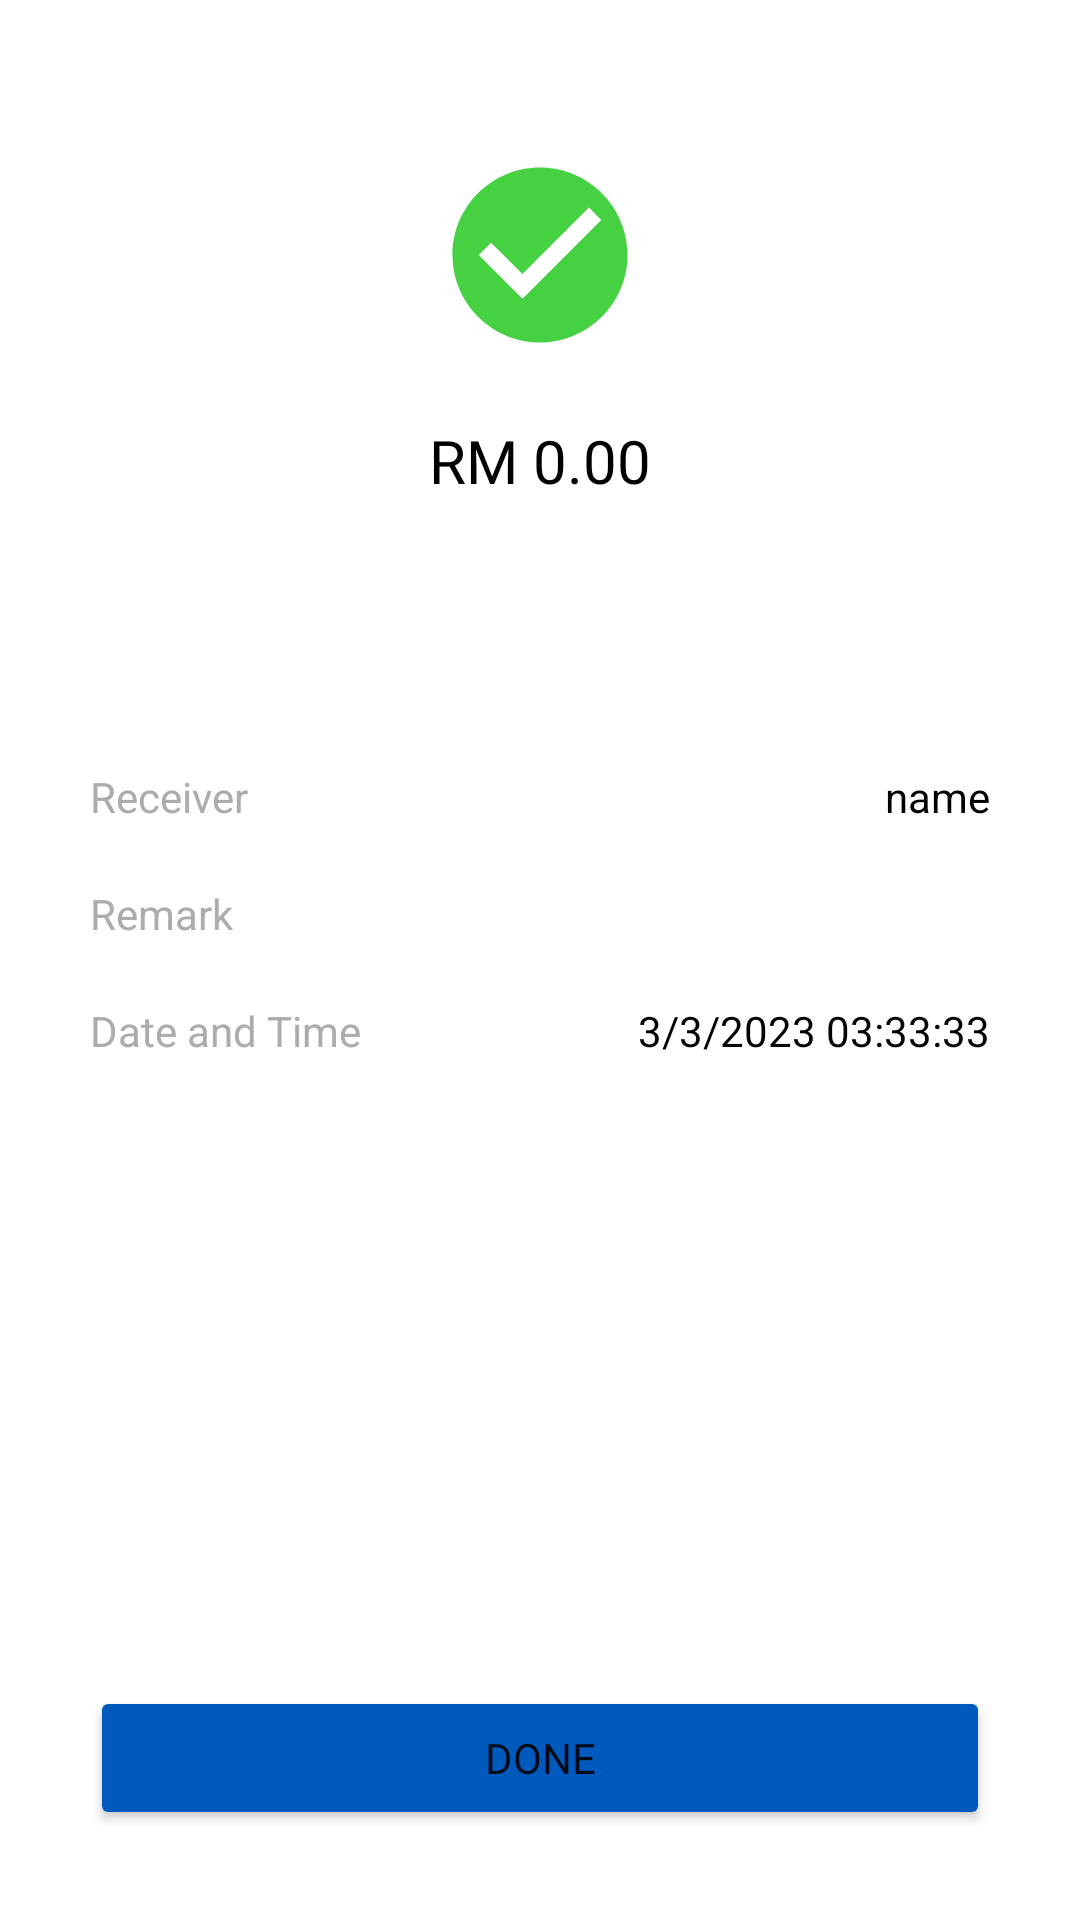

Named icons in this screenshot (1080x1920) and their centers, (x,y):
check circle: (540,255)
